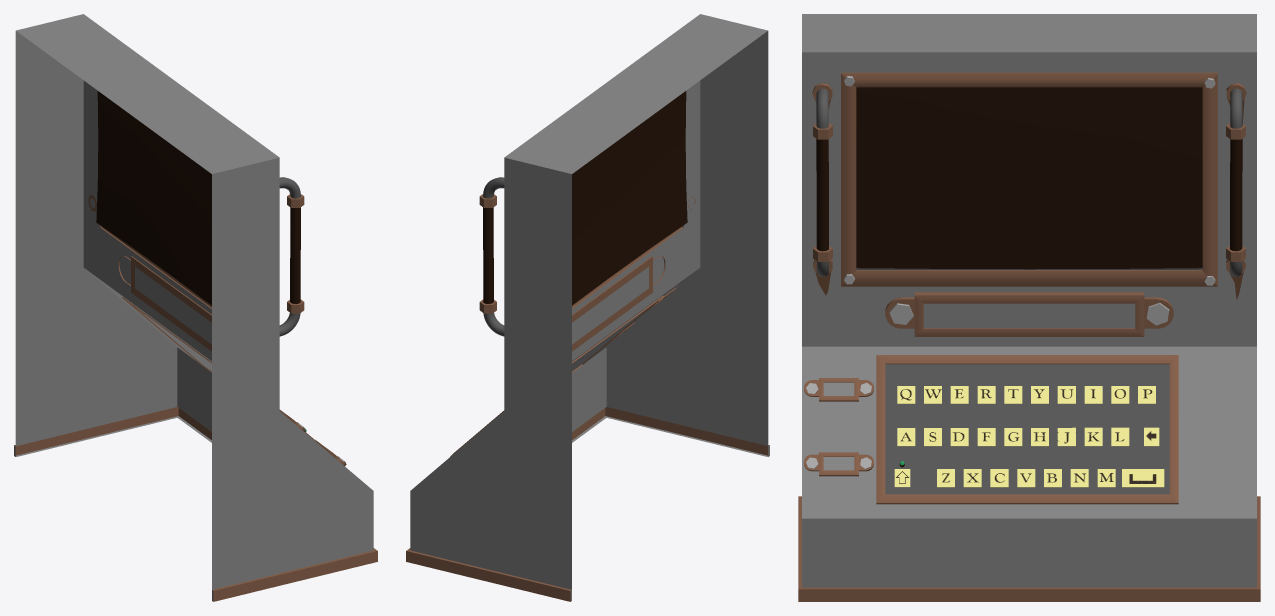
The model's file is SM_UIBase.FBX.
3 renders of one model, left to right at view 1: azimuth 30°, elevation 25°; view 2: azimuth 150°, elevation 25°; view 3: azimuth 270°, elevation 25°, orthographic. The views are drawn at different scales.
Visible parts, largest first — view 1: SM_UIBaseDirty; view 2: SM_UIBaseDirty; view 3: SM_UIBaseDirty.
Boxes of the visible parts, x1=… form: SM_UIBaseDirty: x1=14, y1=14, x2=377, y2=601; SM_UIBaseDirty: x1=406, y1=14, x2=769, y2=601; SM_UIBaseDirty: x1=798, y1=14, x2=1260, y2=601.
Bounding box in the file's own units: 121 × 300 × 254.
